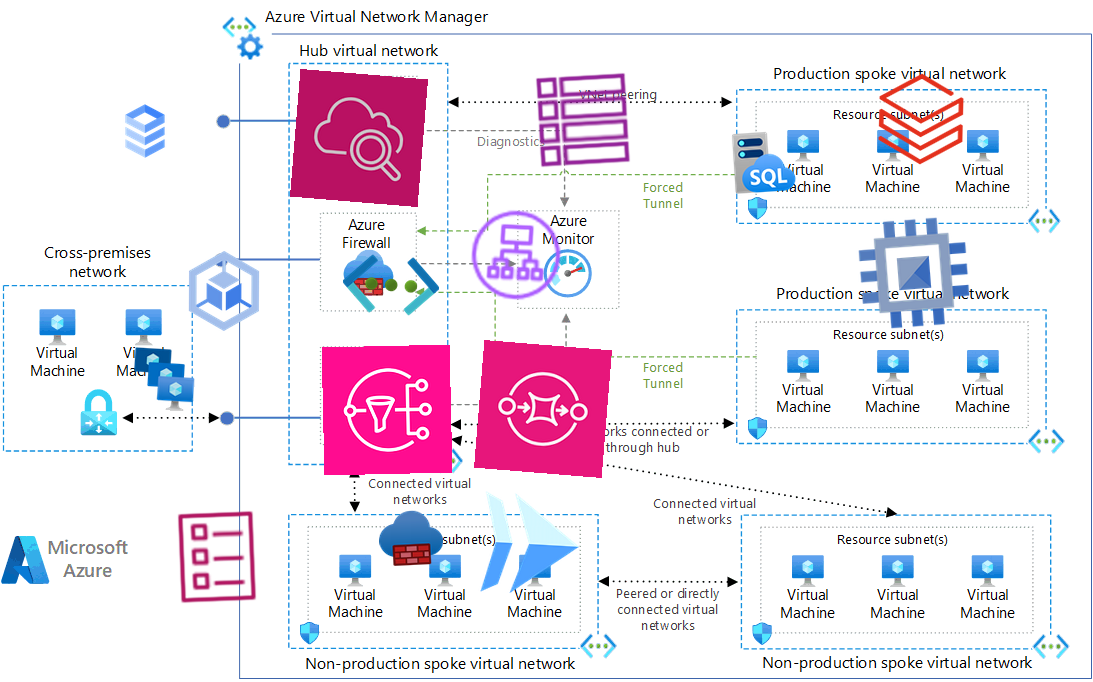aws_amazon_cloudwatch: (289, 68, 429, 208)
aws_amazon_simple_notification_service: (321, 344, 453, 476)
aws_amazon_simple_queue_service: (474, 340, 612, 478)
aws_cloudformation_template: (166, 507, 266, 607)
aws_dynamodb_table: (532, 69, 634, 171)
aws_elastic_load_balancing_application_load_balancer: (465, 204, 567, 306)
azure_databricks: (871, 69, 971, 169)
azure_firewalls: (377, 504, 445, 572)
azure_sql_managed_instance: (729, 127, 799, 197)
azure_virtual_networks: (339, 233, 443, 337)
azure_vm_scale_sets: (129, 344, 197, 412)
gcp_cloud_run: (461, 476, 597, 612)
gcp_cloud_sql: (112, 98, 178, 164)
gcp_compute_engine: (845, 204, 983, 342)
gcp_google_kubernetes_engine: (175, 242, 273, 340)
